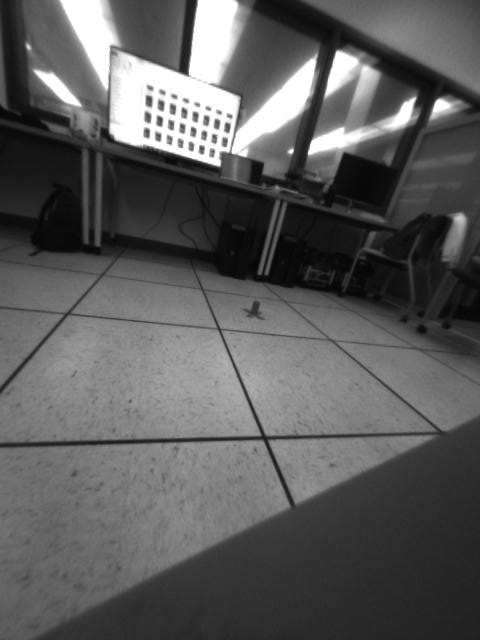X: (243, 299, 264, 321)
